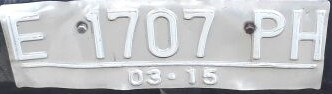plate: (1, 1, 324, 91)
